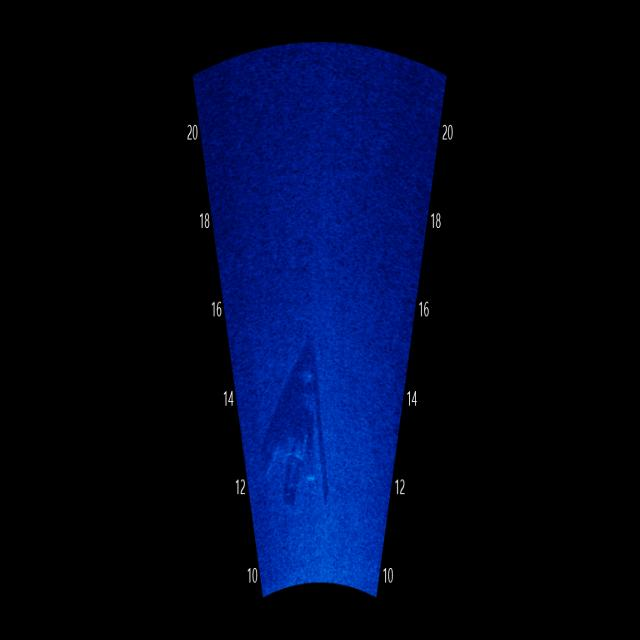triangle: (261, 346, 339, 520)
